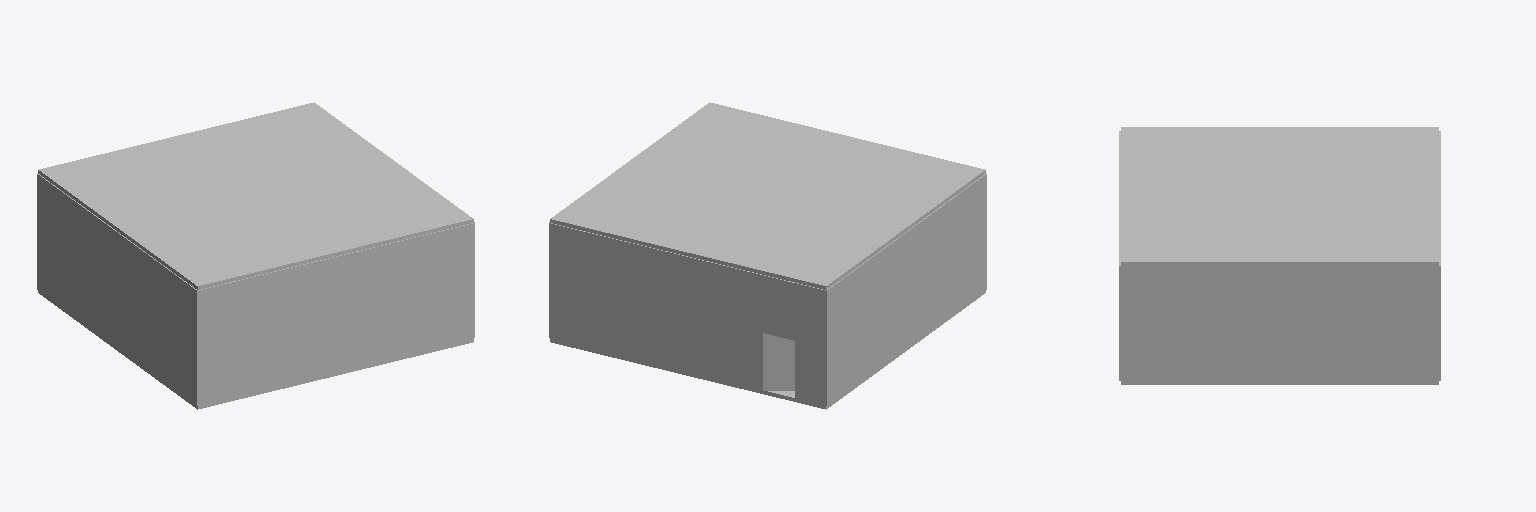
The model's file is room.obj.
3 views of the same model, side by side, from view 1: azimuth 30°, elevation 25°; view 2: azimuth 150°, elevation 25°; view 3: azimuth 270°, elevation 25° (orthographic).
Visible parts, largest first — view 1: Cube.006, Cube.003, Cube.002, Cube.005; view 2: Cube.006, Cube.001, Cube.002, Cube.004, Cube.005; view 3: Cube.006, Cube, Cube.005.
Part boxes in pixels (x1,y1,x2,y2): Cube.006: (38,102,473,289); Cube.003: (198,223,473,405); Cube.002: (37,174,197,405); Cube.005: (38,290,473,409); Cube.006: (550,102,985,289); Cube.001: (550,223,825,405); Cube.002: (826,174,986,405); Cube.004: (763,333,794,390); Cube.005: (550,290,985,409); Cube.006: (1121,127,1438,265); Cube: (1121,266,1438,381); Cube.005: (1121,382,1438,384).
Bounding box in the file's own units: 15.1 × 6.4 × 15.1.